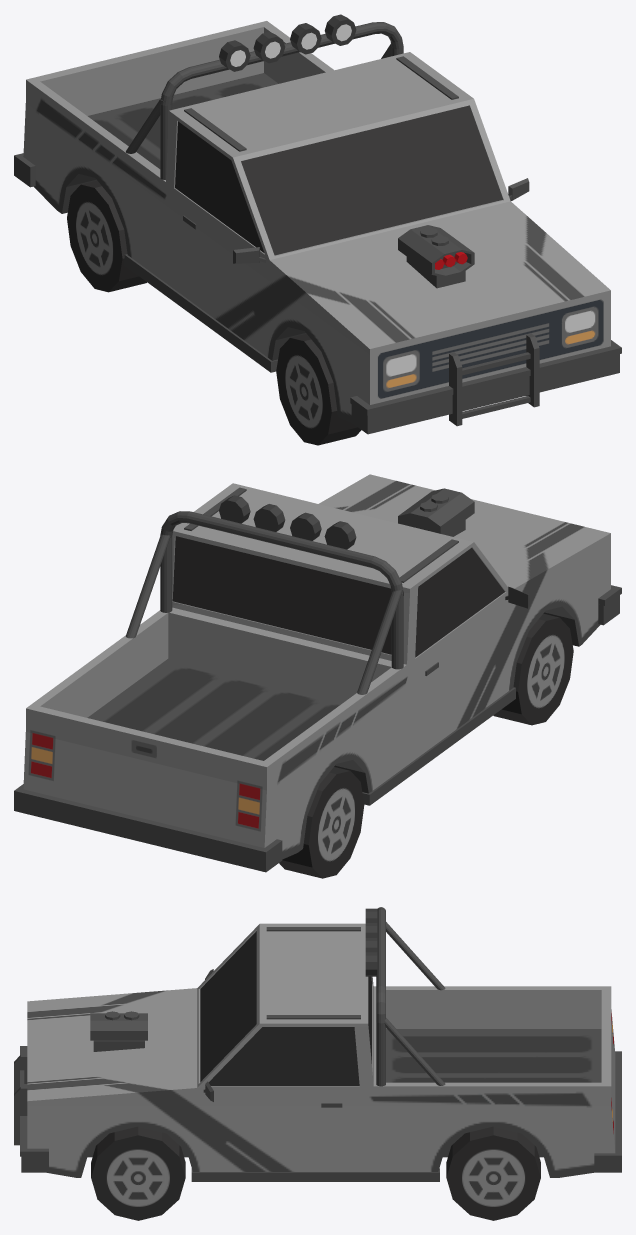
File: Car_GrayPickup.glb
3 renders of one model, top to bottom at view 1: azimuth 30°, elevation 25°; view 2: azimuth 150°, elevation 25°; view 3: azimuth 270°, elevation 25°, orthographic. The views are drawn at different scales.
Parts seen in each view (by area): view 1: Object_122.001; view 2: Object_122.001; view 3: Object_122.001.
Part boxes in pixels (x1,y1,x2,y2): Object_122.001: (14,14,621,445); Object_122.001: (14,474,621,878); Object_122.001: (14,907,621,1220).
Bounding box in the file's own units: 3.06 × 2.79 × 6.43.
Materials: 1 (1 with a texture image).
